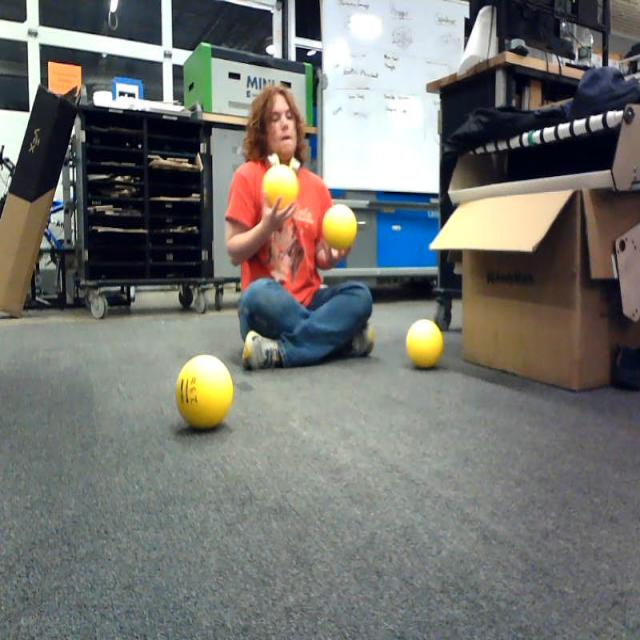Fuel: (174, 354, 233, 432), (406, 319, 444, 370), (262, 164, 298, 212), (322, 203, 357, 251)
